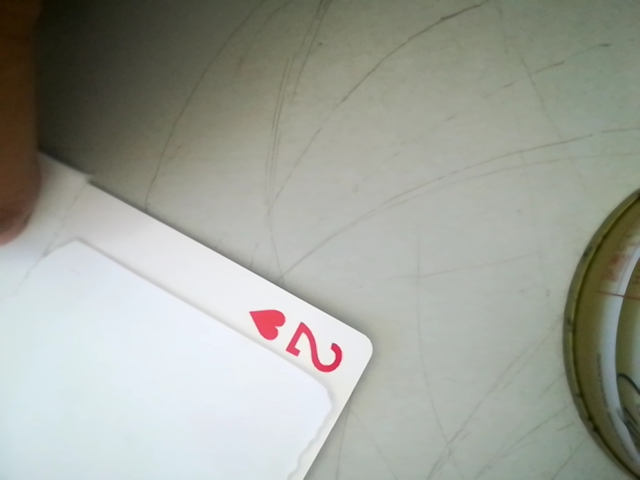hx 2: (247, 304, 359, 379)
